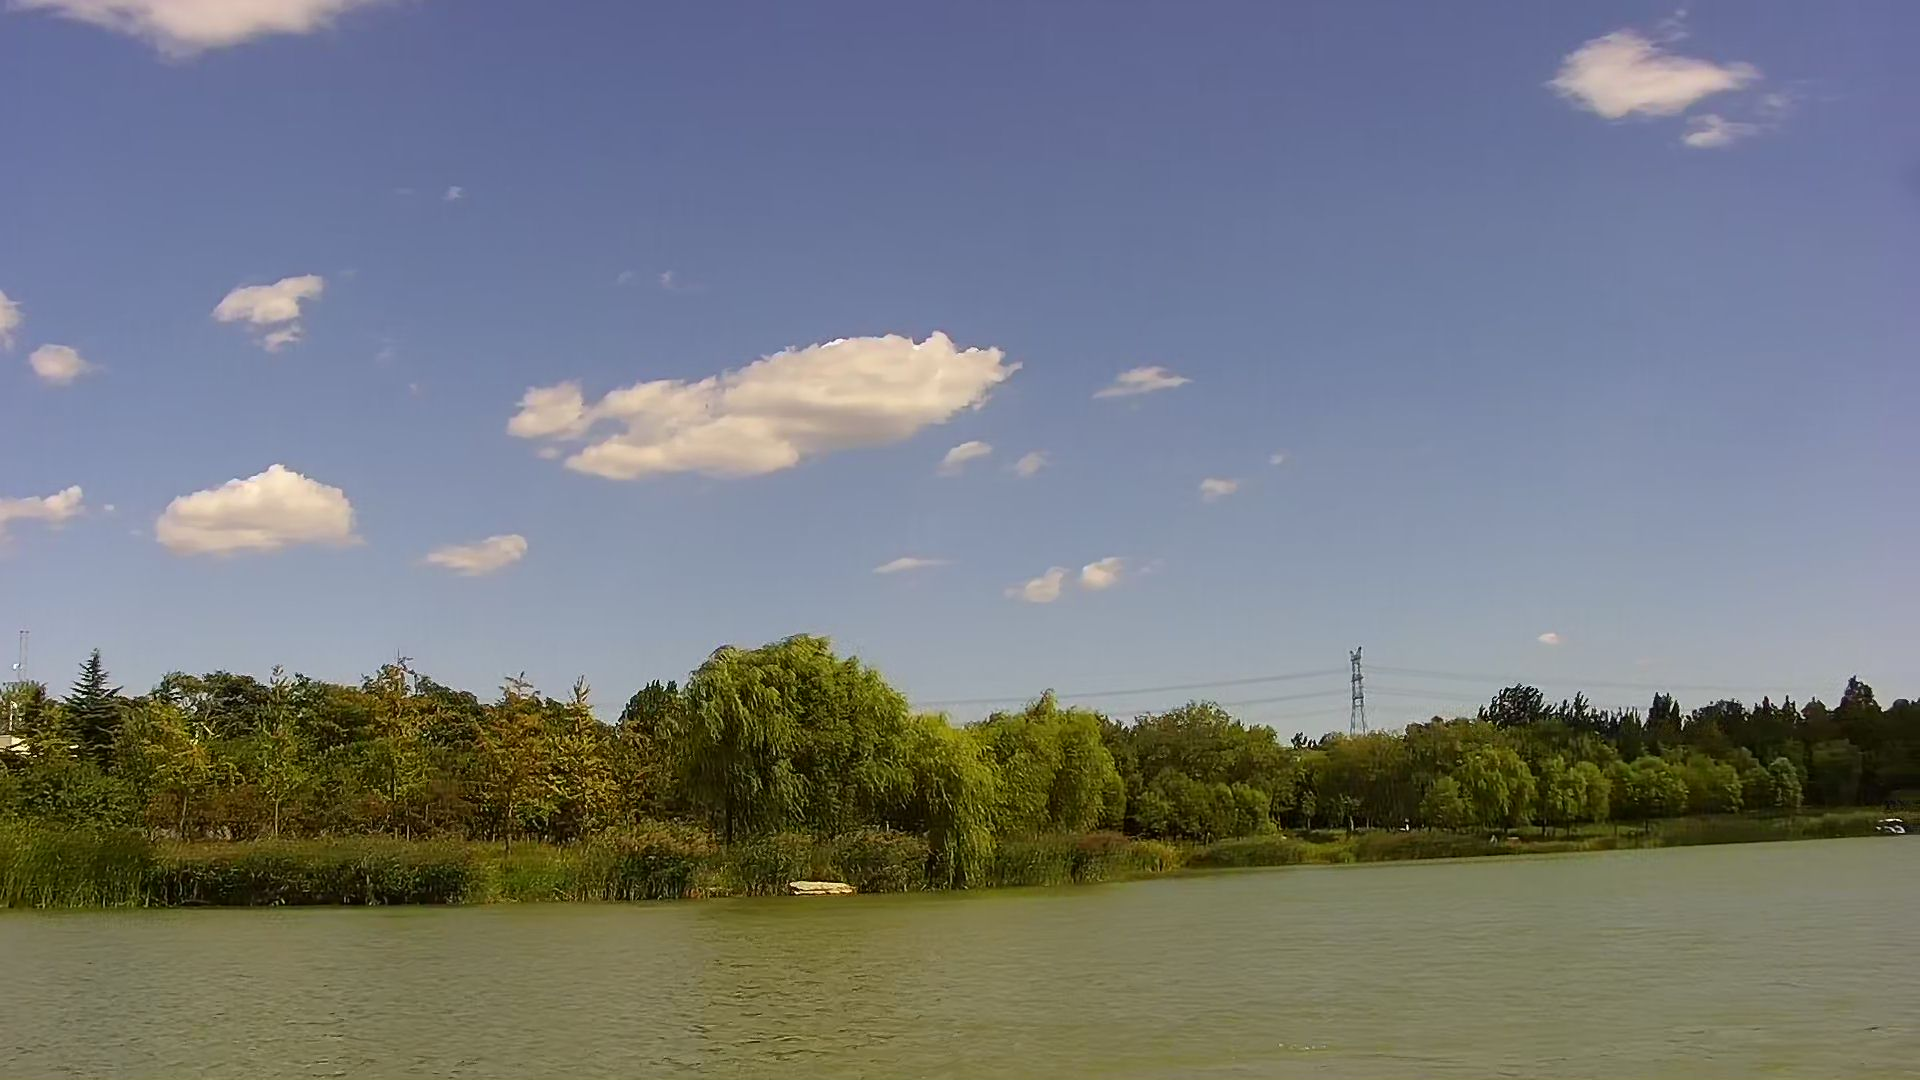boat: (1874, 815, 1907, 839)
